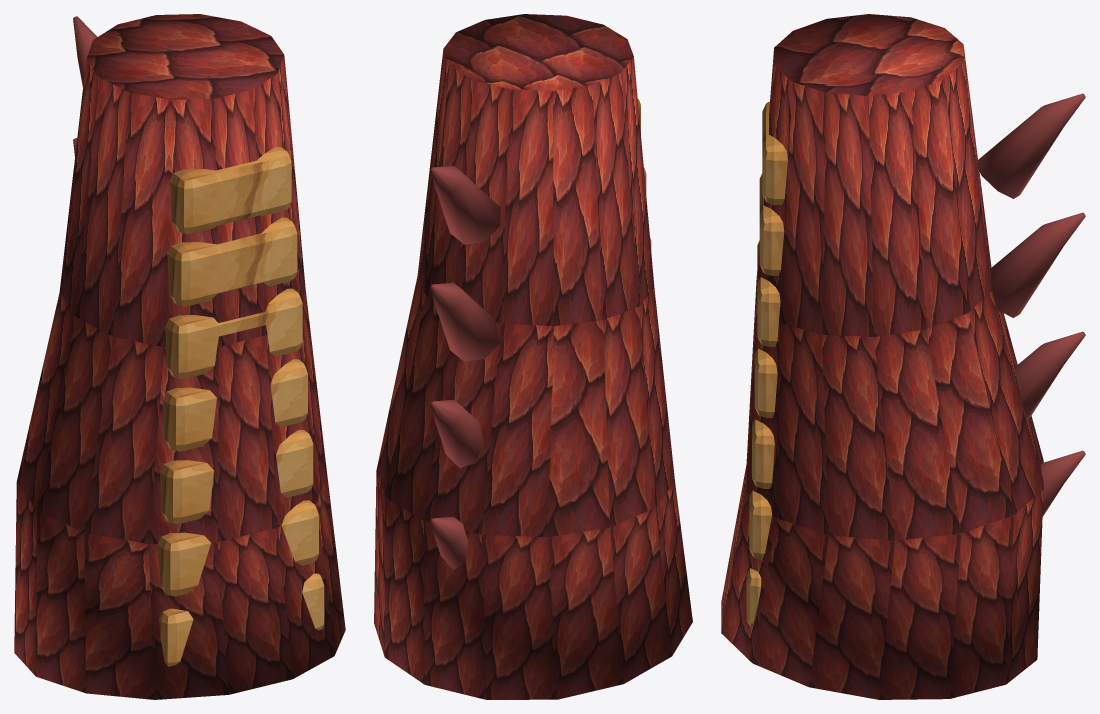
The model's file is dragon_neck.glb.
3 renders of one model, left to right at view 1: azimuth 30°, elevation 25°; view 2: azimuth 150°, elevation 25°; view 3: azimuth 270°, elevation 25°, orthographic. The views are drawn at different scales.
Parts seen in each view (by area): view 1: Curved sculpted dragon neck, Broad golden throat plate.005, Broad golden throat plate.006, Broad golden throat plate.004, Broad golden throat plate.002, Broad golden throat plate.003, Broad golden throat plate.001, Broad golden throat plate, Small neck crest.003; view 2: Curved sculpted dragon neck, Small neck crest.003, Small neck crest.002, Small neck crest.001, Small neck crest; view 3: Curved sculpted dragon neck, Small neck crest.003, Small neck crest.002, Small neck crest.001, Broad golden throat plate.006, Broad golden throat plate.005, Broad golden throat plate.004, Broad golden throat plate.003, Broad golden throat plate.002, Small neck crest, Broad golden throat plate.001, Broad golden throat plate.
Boxes of the visible parts, x1,y1,x2,y2 form: Curved sculpted dragon neck: [14, 14, 345, 699]; Broad golden throat plate.005: [167, 217, 297, 306]; Broad golden throat plate.006: [169, 147, 291, 233]; Broad golden throat plate.004: [165, 288, 302, 378]; Broad golden throat plate.002: [160, 430, 313, 523]; Broad golden throat plate.003: [163, 359, 307, 451]; Broad golden throat plate.001: [157, 500, 318, 596]; Broad golden throat plate: [159, 573, 324, 666]; Small neck crest.003: [73, 16, 97, 86]; Curved sculpted dragon neck: [374, 14, 692, 699]; Small neck crest.003: [430, 165, 500, 244]; Small neck crest.002: [430, 282, 499, 361]; Small neck crest.001: [430, 399, 483, 468]; Small neck crest: [430, 516, 468, 569]; Curved sculpted dragon neck: [721, 14, 1043, 699]; Small neck crest.003: [977, 93, 1085, 198]; Small neck crest.002: [990, 212, 1085, 317]; Small neck crest.001: [1015, 331, 1085, 419]; Broad golden throat plate.006: [762, 101, 787, 204]; Broad golden throat plate.005: [759, 173, 784, 275]; Broad golden throat plate.004: [757, 241, 780, 346]; Broad golden throat plate.003: [754, 348, 777, 417]; Broad golden throat plate.002: [752, 419, 774, 488]; Small neck crest: [1041, 450, 1085, 516]; Broad golden throat plate.001: [749, 491, 771, 559]; Broad golden throat plate: [746, 568, 761, 626].
Size of the model in its own units: 1.24 by 2.48 by 1.39.
3 materials, 2 textured.
